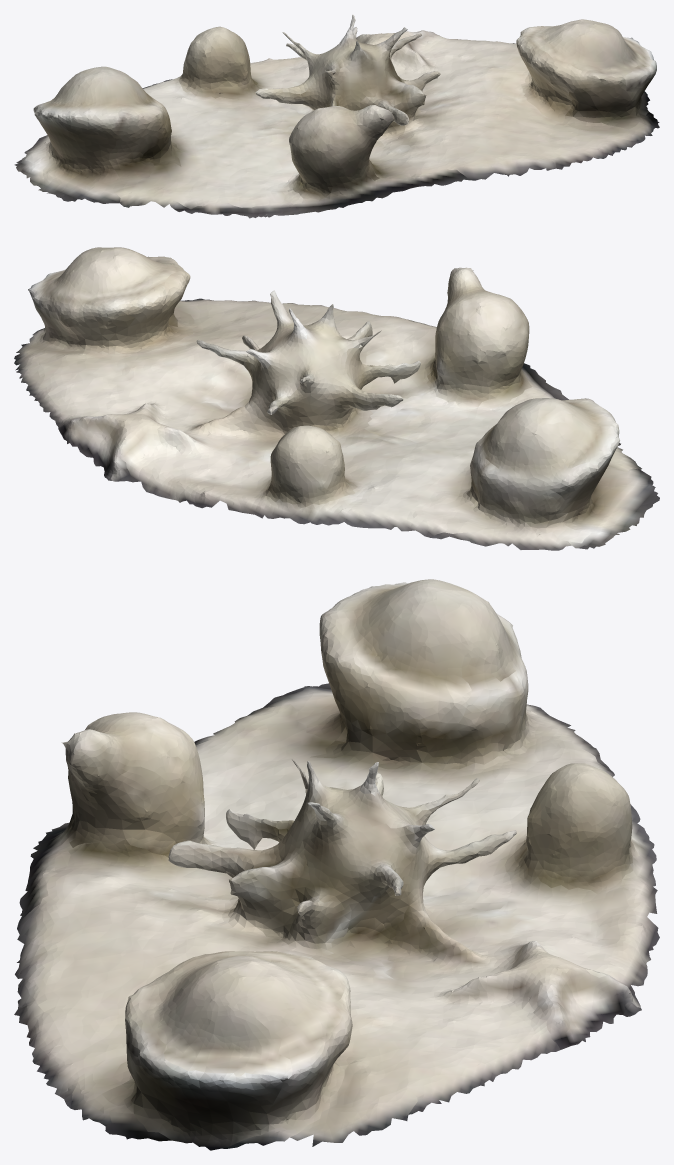
Rendered from Solarsystem.glb.
The picture shows the model from 3 angles, top to bottom: view 1: azimuth 30°, elevation 25°; view 2: azimuth 150°, elevation 25°; view 3: azimuth 270°, elevation 25°; orthographic projection. The views are drawn at different scales.
Visible parts, largest first — view 1: mesh.020; view 2: mesh.020; view 3: mesh.020.
Boxes of the visible parts, x1=… form: mesh.020: x1=14, y1=14, x2=659, y2=218; mesh.020: x1=14, y1=247, x2=659, y2=550; mesh.020: x1=14, y1=579, x2=659, y2=1150.
Size of the model in its own units: 0.3577 by 0.0677 by 0.212.
Materials: 1 (1 with a texture image).
